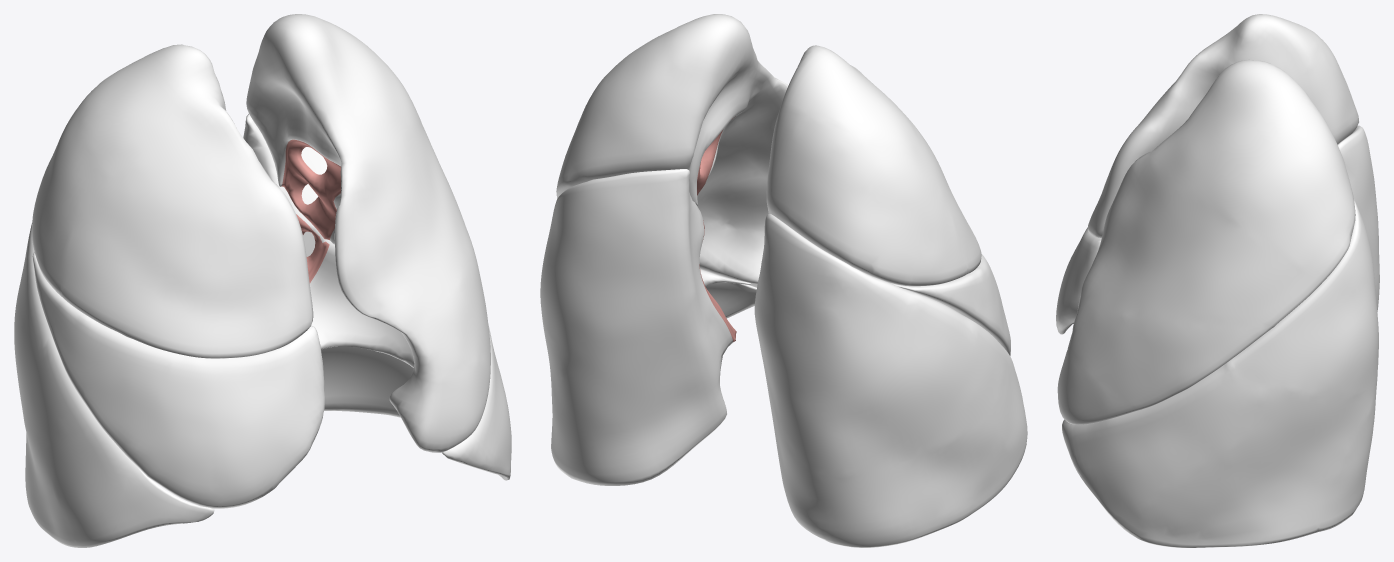
The model's file is lungs.glb.
3 renders of one model, left to right at view 1: azimuth 30°, elevation 25°; view 2: azimuth 150°, elevation 25°; view 3: azimuth 270°, elevation 25°, orthographic. The views are drawn at different scales.
Visible parts, largest first — view 1: Superior lobe of right lung, Superior lobe of left lung, Middle lobe of right lung, Inferior lobe of right lung, Inferior lobe of left lung; view 2: Inferior lobe of right lung, Inferior lobe of left lung, Superior lobe of left lung, Superior lobe of right lung, Middle lobe of right lung; view 3: Superior lobe of left lung, Inferior lobe of left lung, Superior lobe of right lung, Inferior lobe of right lung, Middle lobe of right lung.
Part boxes in pixels (box(x1,y1,x2,y2)): Superior lobe of right lung: box(32, 44, 313, 358); Superior lobe of left lung: box(246, 14, 490, 452); Middle lobe of right lung: box(32, 252, 324, 508); Inferior lobe of right lung: box(14, 223, 214, 547); Inferior lobe of left lung: box(243, 114, 511, 480); Inferior lobe of right lung: box(754, 214, 1027, 547); Inferior lobe of left lung: box(540, 169, 756, 485); Superior lobe of left lung: box(556, 14, 788, 287); Superior lobe of right lung: box(766, 45, 981, 286); Middle lobe of right lung: box(889, 254, 1010, 355); Superior lobe of left lung: box(1057, 59, 1355, 424); Inferior lobe of left lung: box(1062, 199, 1378, 547); Superior lobe of right lung: box(1088, 14, 1358, 237); Inferior lobe of right lung: box(1073, 125, 1379, 323); Middle lobe of right lung: box(1056, 227, 1101, 334).
Bounding box in the file's own units: 0.261 × 0.264 × 0.1857.
